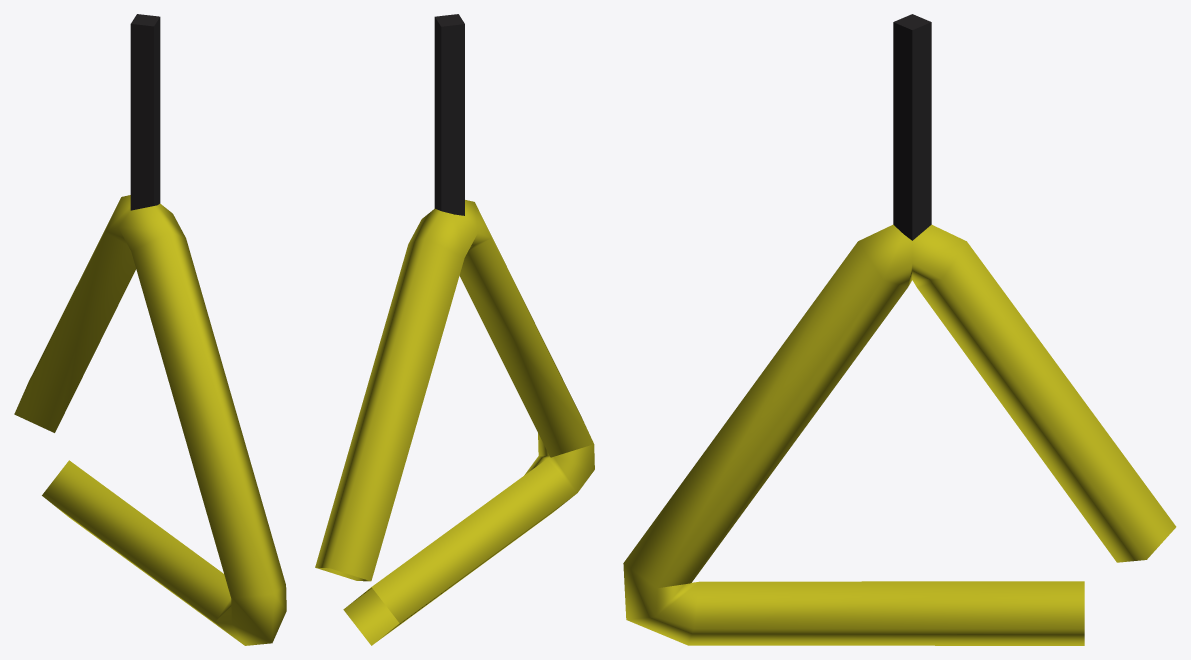
The model's file is Triangle.fbx.
3 renders of one model, left to right at view 1: azimuth 30°, elevation 25°; view 2: azimuth 150°, elevation 25°; view 3: azimuth 270°, elevation 25°, orthographic. The views are drawn at different scales.
Visible parts, largest first — view 1: Triangle Instrument; view 2: Triangle Instrument; view 3: Triangle Instrument.
Part boxes in pixels (x1,y1,x2,y2): Triangle Instrument: (14, 14, 286, 645); Triangle Instrument: (315, 14, 594, 645); Triangle Instrument: (623, 14, 1176, 645).
Size of the model in its own units: 0.0357 by 0.3436 by 0.2761.
